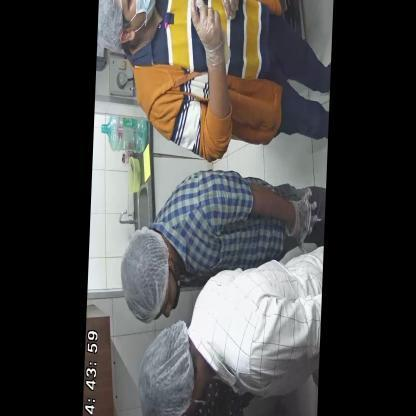no_apron: (131, 0, 300, 126), (158, 180, 287, 291)
